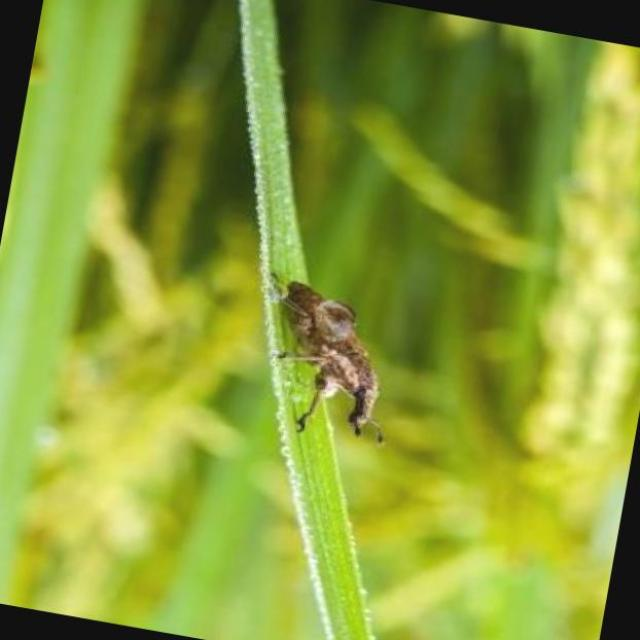ricebug: (280, 283, 379, 436)
